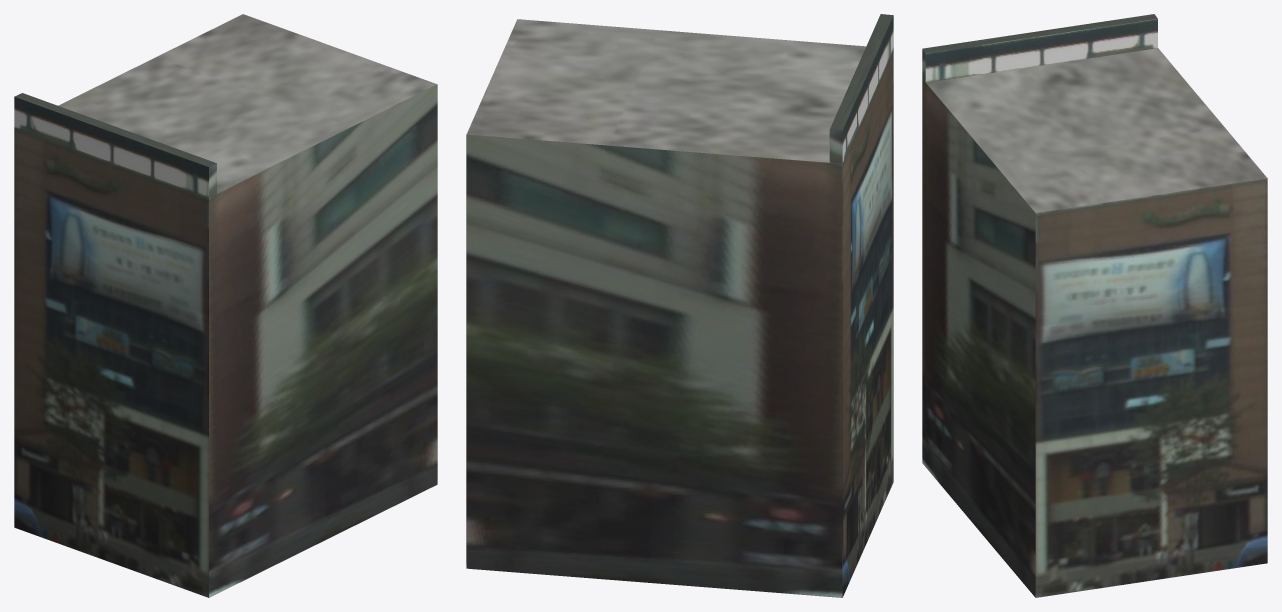
The picture shows the model from 3 angles, left to right: view 1: azimuth 30°, elevation 25°; view 2: azimuth 150°, elevation 25°; view 3: azimuth 270°, elevation 25°; orthographic projection. The views are drawn at different scales.
Visible parts, largest first — view 1: ShapeIndexedFaceSet.003_ShapeIndexedFaceSet.004, ShapeIndexedFaceSet_ShapeIndexedFaceSet.001, ShapeIndexedFaceSet.004_ShapeIndexedFaceSet.005, ShapeIndexedFaceSet.007_ShapeIndexedFaceSet.008, ShapeIndexedFaceSet.006_ShapeIndexedFaceSet.007; view 2: ShapeIndexedFaceSet.002_ShapeIndexedFaceSet.003, ShapeIndexedFaceSet.004_ShapeIndexedFaceSet.005, ShapeIndexedFaceSet_ShapeIndexedFaceSet.001, ShapeIndexedFaceSet.007_ShapeIndexedFaceSet.008, ShapeIndexedFaceSet.006_ShapeIndexedFaceSet.007; view 3: ShapeIndexedFaceSet.001_ShapeIndexedFaceSet.002, ShapeIndexedFaceSet.003_ShapeIndexedFaceSet.004, ShapeIndexedFaceSet.004_ShapeIndexedFaceSet.005, ShapeIndexedFaceSet.009_ShapeIndexedFaceSet.010, ShapeIndexedFaceSet.006_ShapeIndexedFaceSet.007.
Part boxes in pixels (x1,y1,x2,y2): ShapeIndexedFaceSet.003_ShapeIndexedFaceSet.004: (209,84,437,597); ShapeIndexedFaceSet_ShapeIndexedFaceSet.001: (14,127,208,597); ShapeIndexedFaceSet.004_ShapeIndexedFaceSet.005: (58,14,436,193); ShapeIndexedFaceSet.007_ShapeIndexedFaceSet.008: (14,97,208,197); ShapeIndexedFaceSet.006_ShapeIndexedFaceSet.007: (14,93,216,166); ShapeIndexedFaceSet.002_ShapeIndexedFaceSet.003: (466,134,842,597); ShapeIndexedFaceSet.004_ShapeIndexedFaceSet.005: (466,19,866,163); ShapeIndexedFaceSet_ShapeIndexedFaceSet.001: (842,49,893,597); ShapeIndexedFaceSet.007_ShapeIndexedFaceSet.008: (842,15,893,162); ShapeIndexedFaceSet.006_ShapeIndexedFaceSet.007: (830,14,893,130); ShapeIndexedFaceSet.001_ShapeIndexedFaceSet.002: (1035,178,1267,597); ShapeIndexedFaceSet.003_ShapeIndexedFaceSet.004: (922,79,1035,597); ShapeIndexedFaceSet.004_ShapeIndexedFaceSet.005: (926,48,1267,212); ShapeIndexedFaceSet.009_ShapeIndexedFaceSet.010: (925,18,1157,82); ShapeIndexedFaceSet.006_ShapeIndexedFaceSet.007: (922,14,1157,53).
Size of the model in its own units: 14.16 by 16.12 by 12.19.
11 materials, 11 textured.
